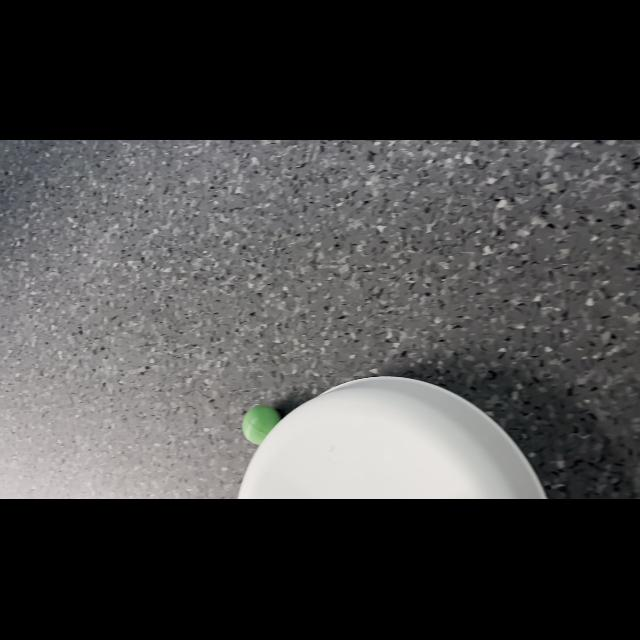objects: (239, 400, 283, 448)
